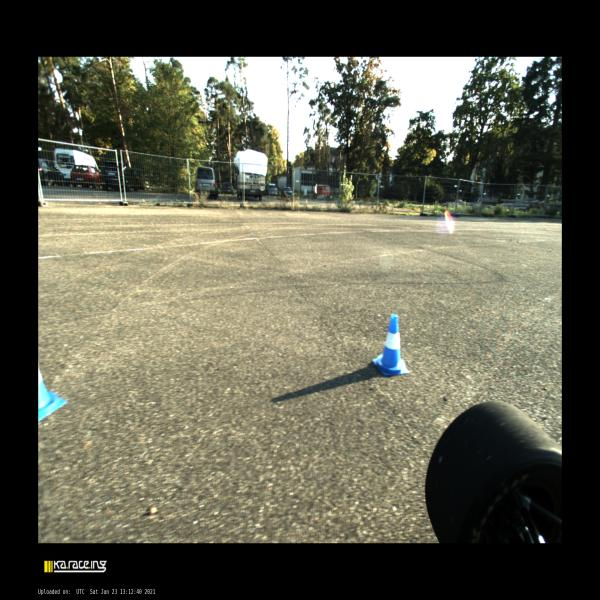blue_cone: (372, 314, 409, 375), (38, 366, 68, 421)
